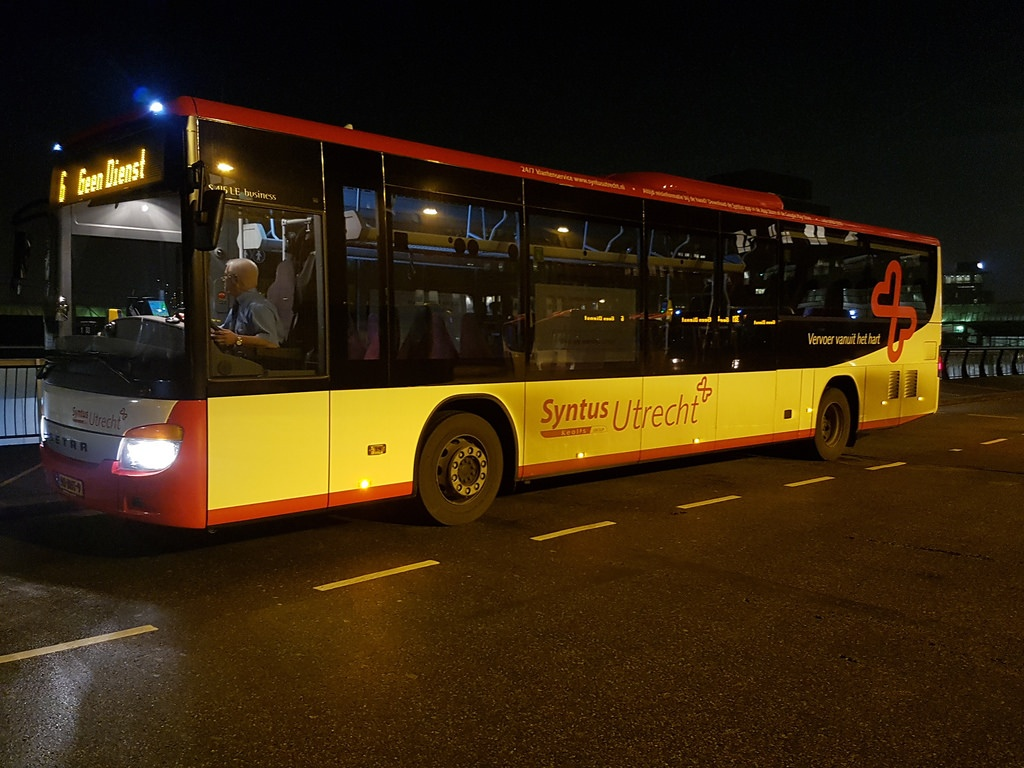bus: (34, 77, 985, 539)
